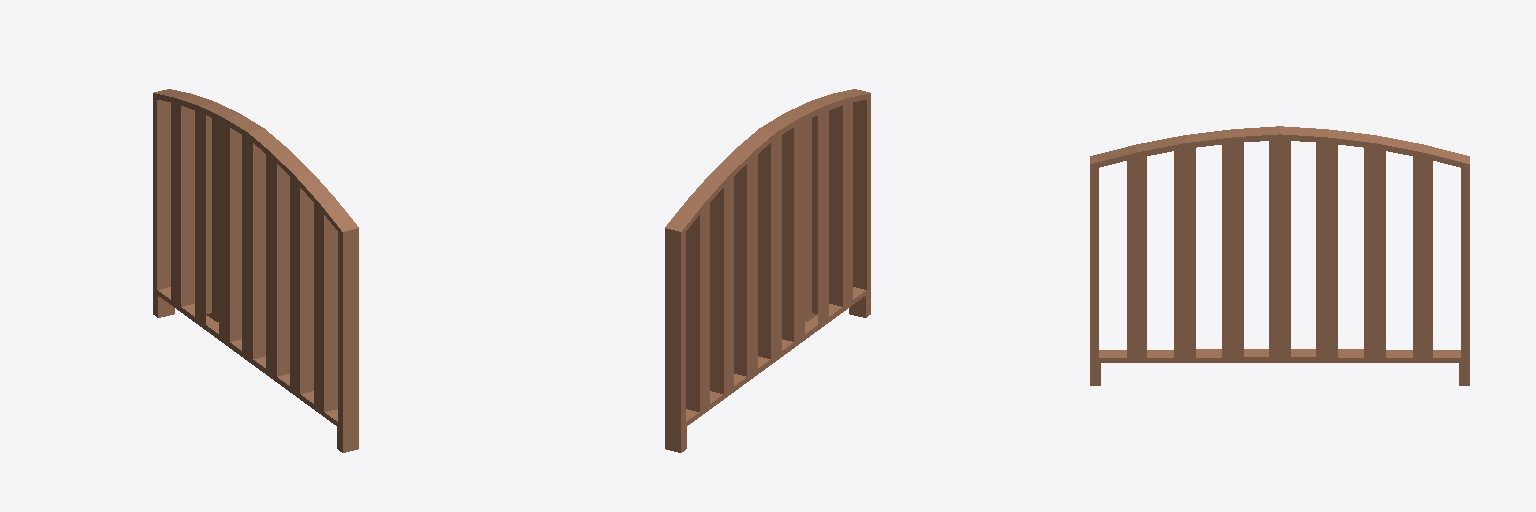
3 renders of one model, left to right at view 1: azimuth 30°, elevation 25°; view 2: azimuth 150°, elevation 25°; view 3: azimuth 270°, elevation 25°, orthographic.
Parts seen in each view (by area): view 1: Cube; view 2: Cube; view 3: Cube.
Boxes of the visible parts, x1=… form: Cube: x1=153, y1=89, x2=358, y2=452; Cube: x1=665, y1=89, x2=870, y2=452; Cube: x1=1090, y1=126, x2=1469, y2=385.
Size of the model in its own units: 1.44 by 20.78 by 28.49.
1 materials, 1 textured.